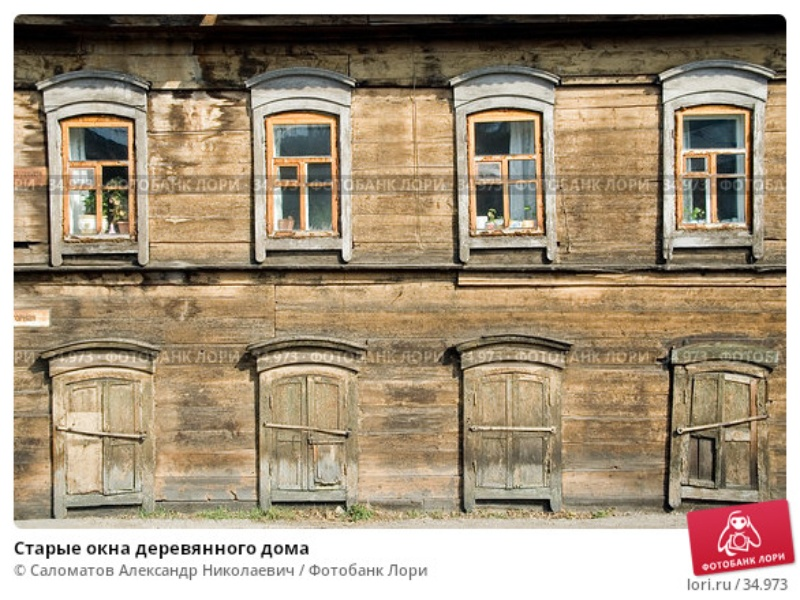window: (465, 111, 550, 243), (59, 117, 140, 240), (264, 110, 338, 240), (681, 102, 753, 223)
